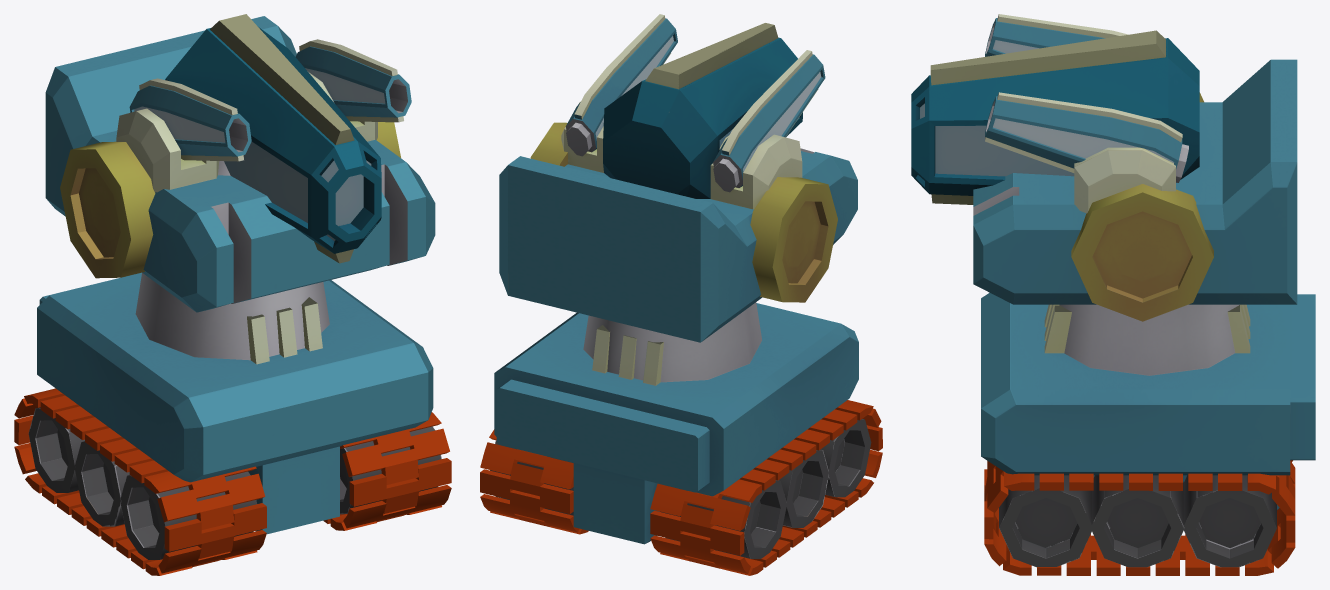
Rendered from player_idle_1_upgrade6.obj.
3 renders of one model, left to right at view 1: azimuth 30°, elevation 25°; view 2: azimuth 150°, elevation 25°; view 3: azimuth 270°, elevation 25°, orthographic. The views are drawn at different scales.
Parts seen in each view (by area): view 1: Object004, Box038, Object012, Object011, Box042; view 2: Object004, Box038, Object012, Object011, Box042; view 3: Object004, Object011, Object012, Box042.
Boxes of the visible parts, bbox=[...] form: Object004: bbox=[37, 14, 435, 534]; Box038: bbox=[14, 388, 266, 575]; Object012: bbox=[129, 39, 411, 161]; Object011: bbox=[28, 407, 441, 559]; Box042: bbox=[323, 412, 451, 530]; Object004: bbox=[494, 23, 858, 544]; Box038: bbox=[650, 400, 882, 575]; Object012: bbox=[565, 14, 825, 192]; Object011: bbox=[490, 419, 871, 558]; Box042: bbox=[480, 429, 588, 534]; Object004: bbox=[911, 30, 1315, 509]; Object011: bbox=[999, 475, 1276, 567]; Object012: bbox=[985, 14, 1188, 182]; Box042: bbox=[984, 461, 1295, 575].
Size of the model in its own units: 110 by 176 by 136.
4 materials, 2 textured.
